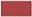redbrick: (1, 1, 32, 17)
